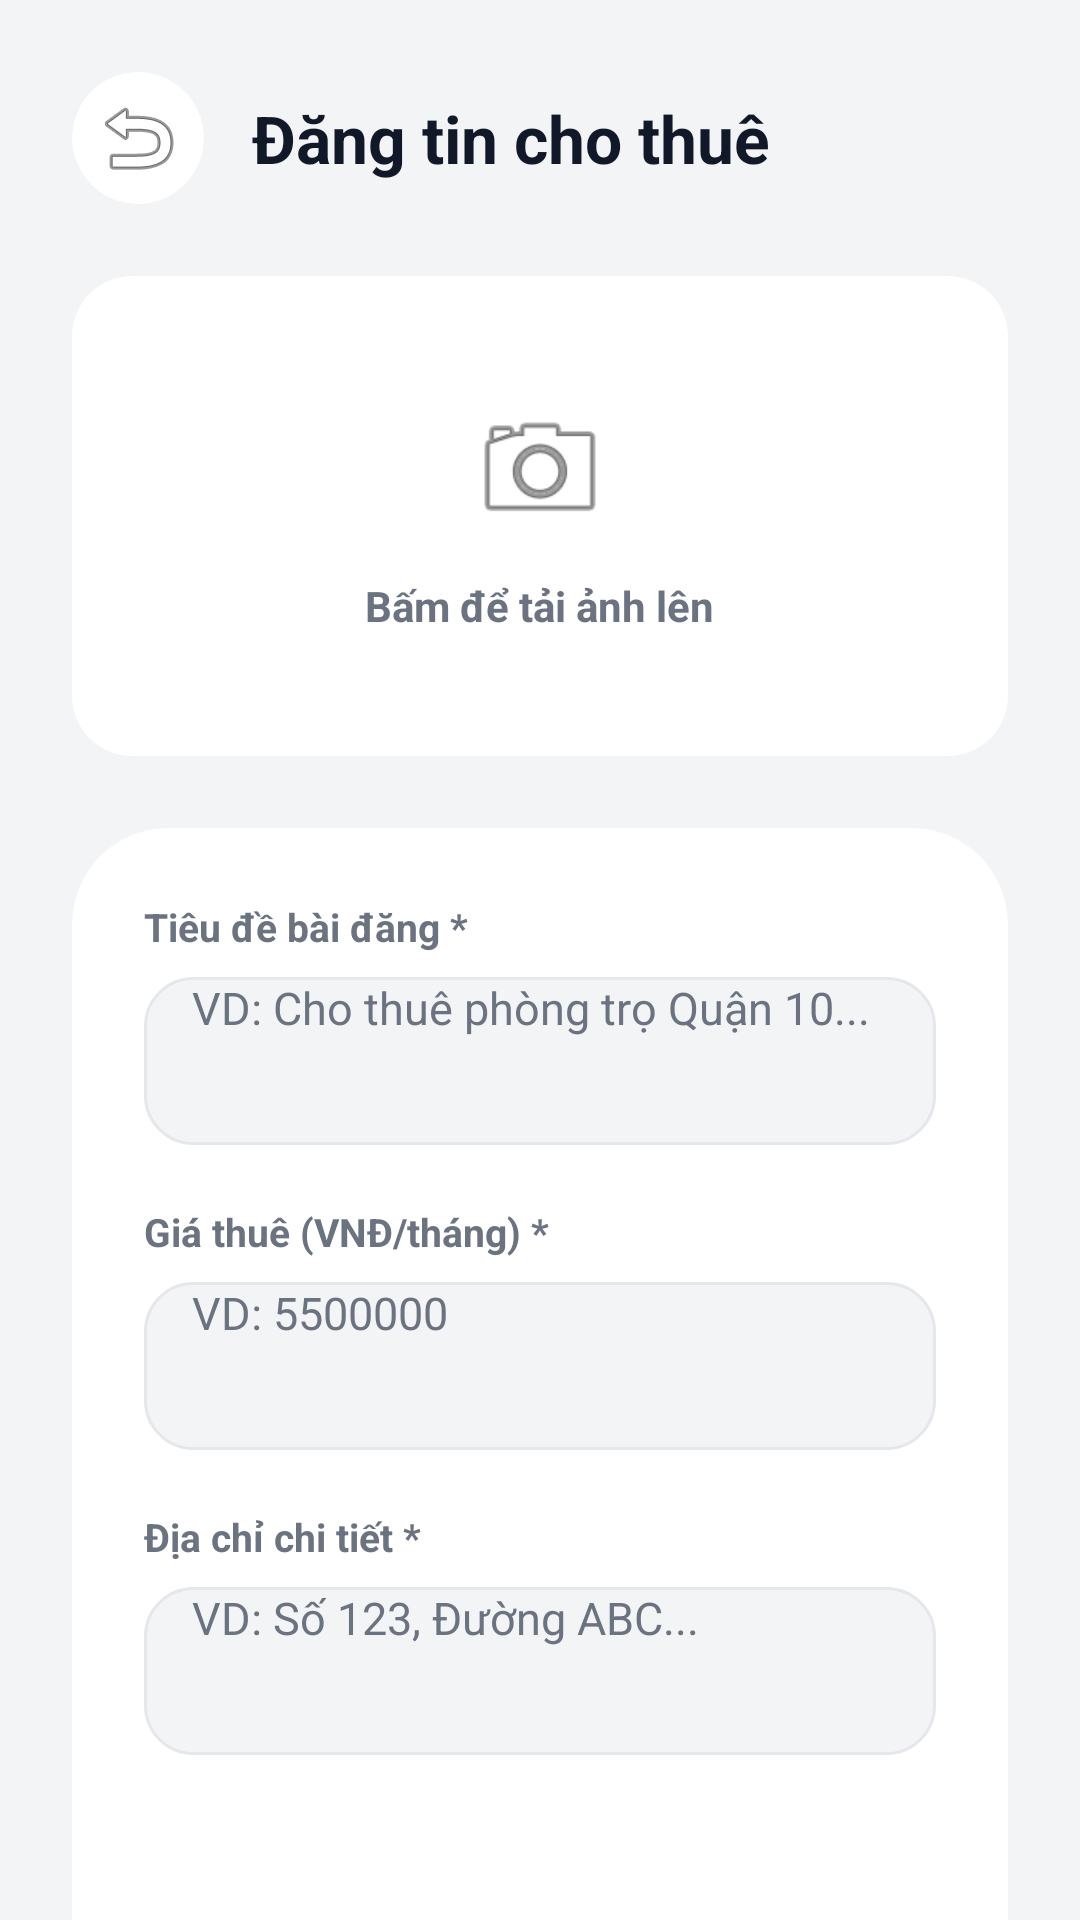

Locate icon controls on the screen. Image size 1080×1920, boxes as (x1, y1, x2, y2).
camera: (484, 422, 596, 511)
revert: (72, 72, 204, 204)
